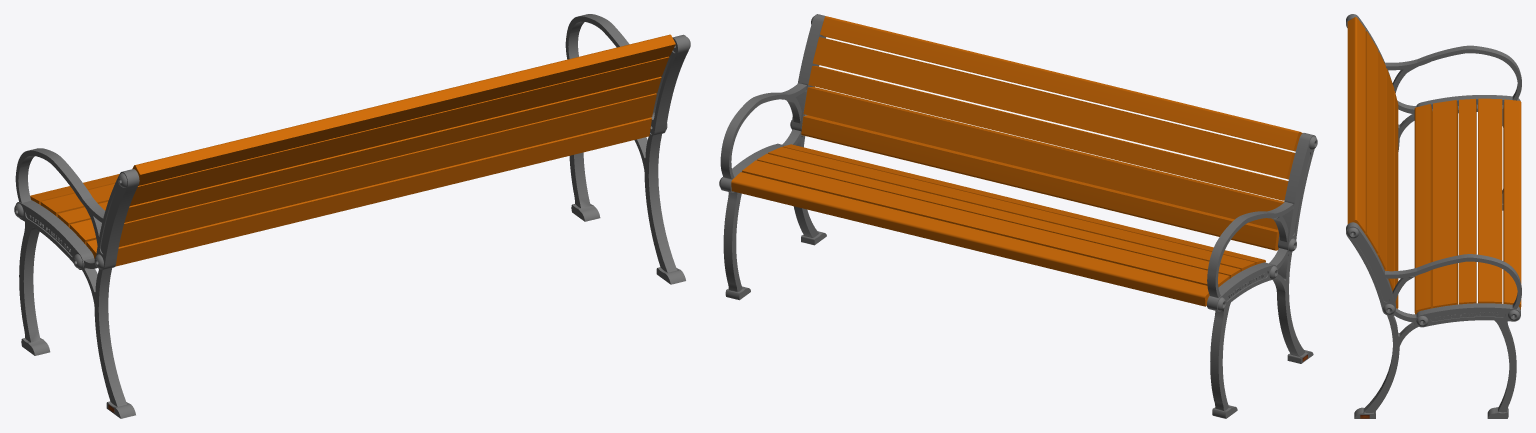
3 renders of one model, left to right at view 1: azimuth 30°, elevation 25°; view 2: azimuth 150°, elevation 25°; view 3: azimuth 270°, elevation 25°, orthographic. The views are drawn at different scales.
Parts seen in each view (by area): view 1: mesh63_mesh63-geometry, mesh61_mesh61-geometry, mesh136_mesh136-geometry, mesh60_mesh60-geometry, mesh64_mesh64-geometry, mesh62_mesh62-geometry, mesh2_mesh2-geometry, mesh65_mesh65-geometry, mesh57_mesh57-geometry; view 2: mesh63_mesh63-geometry, mesh64_mesh64-geometry, mesh57_mesh57-geometry, mesh62_mesh62-geometry, mesh61_mesh61-geometry, mesh60_mesh60-geometry, mesh136_mesh136-geometry, mesh65_mesh65-geometry, mesh2_mesh2-geometry, mesh58_mesh58-geometry, mesh66_mesh66-geometry, mesh59_mesh59-geometry; view 3: mesh2_mesh2-geometry, mesh58_mesh58-geometry, mesh65_mesh65-geometry, mesh61_mesh61-geometry, mesh59_mesh59-geometry, mesh57_mesh57-geometry, mesh66_mesh66-geometry, mesh64_mesh64-geometry, mesh136_mesh136-geometry, mesh63_mesh63-geometry, mesh62_mesh62-geometry, mesh60_mesh60-geometry.
Boxes of the visible parts, <box> form: mesh63_mesh63-geometry: <box>119,93,656,246</box>; mesh61_mesh61-geometry: <box>132,34,675,185</box>; mesh136_mesh136-geometry: <box>14,148,139,418</box>; mesh60_mesh60-geometry: <box>115,117,651,266</box>; mesh64_mesh64-geometry: <box>130,56,669,205</box>; mesh62_mesh62-geometry: <box>124,76,661,222</box>; mesh2_mesh2-geometry: <box>565,14,690,284</box>; mesh65_mesh65-geometry: <box>40,183,114,216</box>; mesh57_mesh57-geometry: <box>30,174,119,204</box>; mesh63_mesh63-geometry: <box>803,86,1284,229</box>; mesh64_mesh64-geometry: <box>812,37,1295,179</box>; mesh57_mesh57-geometry: <box>731,172,1209,306</box>; mesh62_mesh62-geometry: <box>808,66,1288,200</box>; mesh61_mesh61-geometry: <box>820,16,1302,151</box>; mesh60_mesh60-geometry: <box>801,115,1279,250</box>; mesh136_mesh136-geometry: <box>1207,133,1317,418</box>; mesh65_mesh65-geometry: <box>742,160,1229,287</box>; mesh2_mesh2-geometry: <box>719,14,826,300</box>; mesh58_mesh58-geometry: <box>768,147,1255,271</box>; mesh66_mesh66-geometry: <box>757,153,1240,278</box>; mesh59_mesh59-geometry: <box>783,144,1265,264</box>; mesh2_mesh2-geometry: <box>1346,222,1521,418</box>; mesh58_mesh58-geometry: <box>1433,100,1458,307</box>; mesh65_mesh65-geometry: <box>1478,98,1502,303</box>; mesh61_mesh61-geometry: <box>1347,17,1365,232</box>; mesh59_mesh59-geometry: <box>1414,104,1432,314</box>; mesh57_mesh57-geometry: <box>1503,99,1521,309</box>; mesh66_mesh66-geometry: <box>1459,98,1476,304</box>; mesh64_mesh64-geometry: <box>1364,31,1378,253</box>; mesh136_mesh136-geometry: <box>1346,14,1521,210</box>; mesh63_mesh63-geometry: <box>1385,68,1394,291</box>; mesh62_mesh62-geometry: <box>1377,52,1385,269</box>; mesh60_mesh60-geometry: <box>1394,91,1398,308</box>.
Bounding box in the file's own units: 0.879 × 0.368 × 0.3032.
